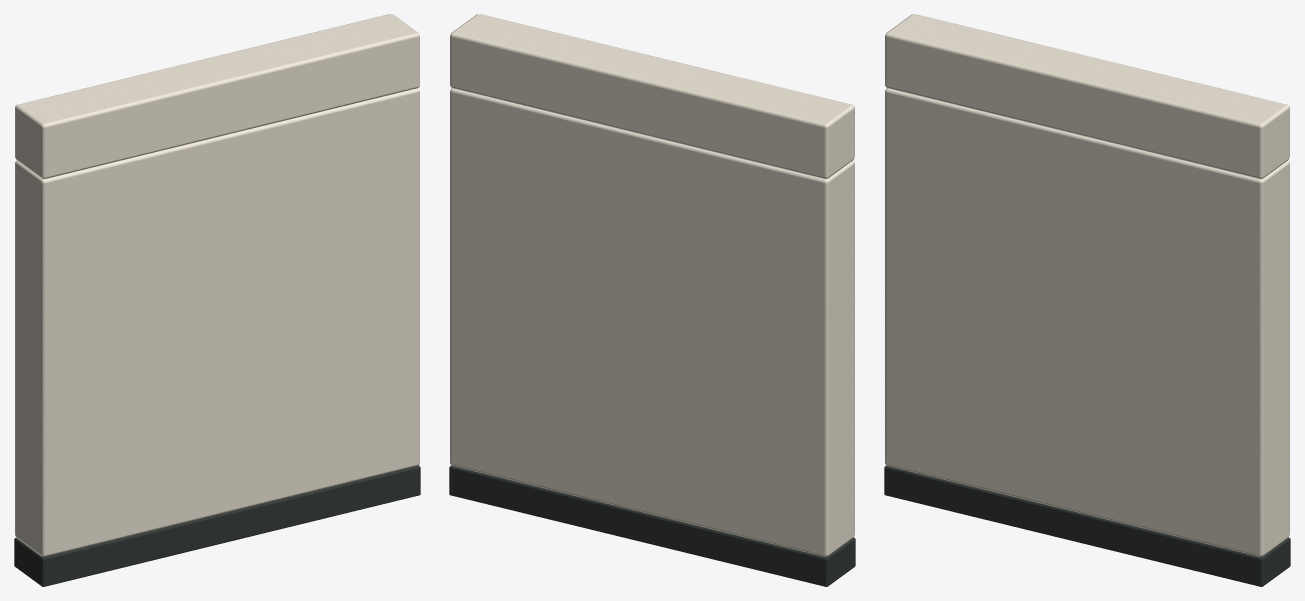
The model's file is wall-straight.glb.
3 renders of one model, left to right at view 1: azimuth 30°, elevation 25°; view 2: azimuth 150°, elevation 25°; view 3: azimuth 330°, elevation 25°, orthographic.
Parts seen in each view (by area): view 1: wall_body, wall_band, wall_plinth; view 2: wall_body, wall_band, wall_plinth; view 3: wall_body, wall_band, wall_plinth.
Part boxes in pixels (x1=…): wall_body: x1=15, y1=88, x2=419, y2=556; wall_band: x1=15, y1=14, x2=419, y2=178; wall_plinth: x1=14, y1=465, x2=420, y2=586; wall_body: x1=450, y1=88, x2=854, y2=556; wall_band: x1=450, y1=14, x2=854, y2=178; wall_plinth: x1=449, y1=465, x2=855, y2=586; wall_body: x1=885, y1=88, x2=1289, y2=556; wall_band: x1=885, y1=14, x2=1289, y2=178; wall_plinth: x1=884, y1=465, x2=1290, y2=586.
Bounding box in the file's own units: 3 × 3.5 × 0.4.
Materials: 2 (2 with a texture image).
